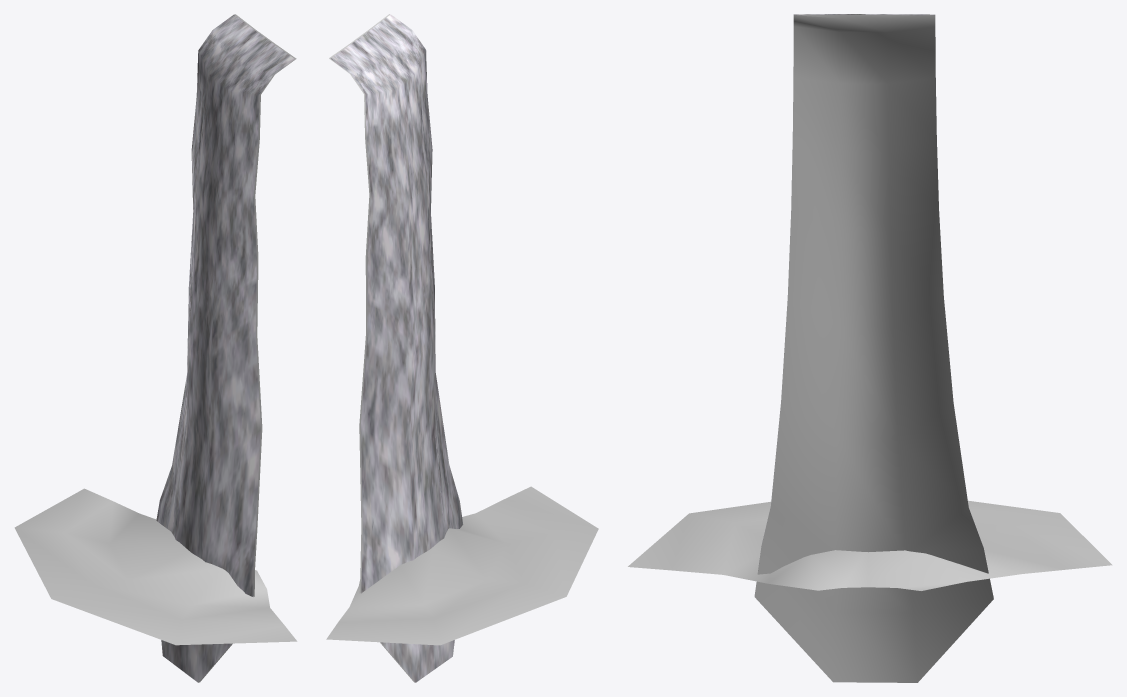
File: OVERHILL_A_01_WATERFALLS03.obj
3 views of the same model, side by side, from view 1: azimuth 30°, elevation 25°; view 2: azimuth 150°, elevation 25°; view 3: azimuth 270°, elevation 25° (orthographic). The views are drawn at different scales.
Visible parts, largest first — view 1: Waterfalls03; view 2: Waterfalls03; view 3: Waterfalls03.
Part boxes in pixels (bbox=[...]): Waterfalls03: bbox=[14, 14, 297, 682]; Waterfalls03: bbox=[326, 14, 598, 682]; Waterfalls03: bbox=[628, 14, 1112, 682].
Bounding box in the file's own units: 599 × 1665 × 1028.
